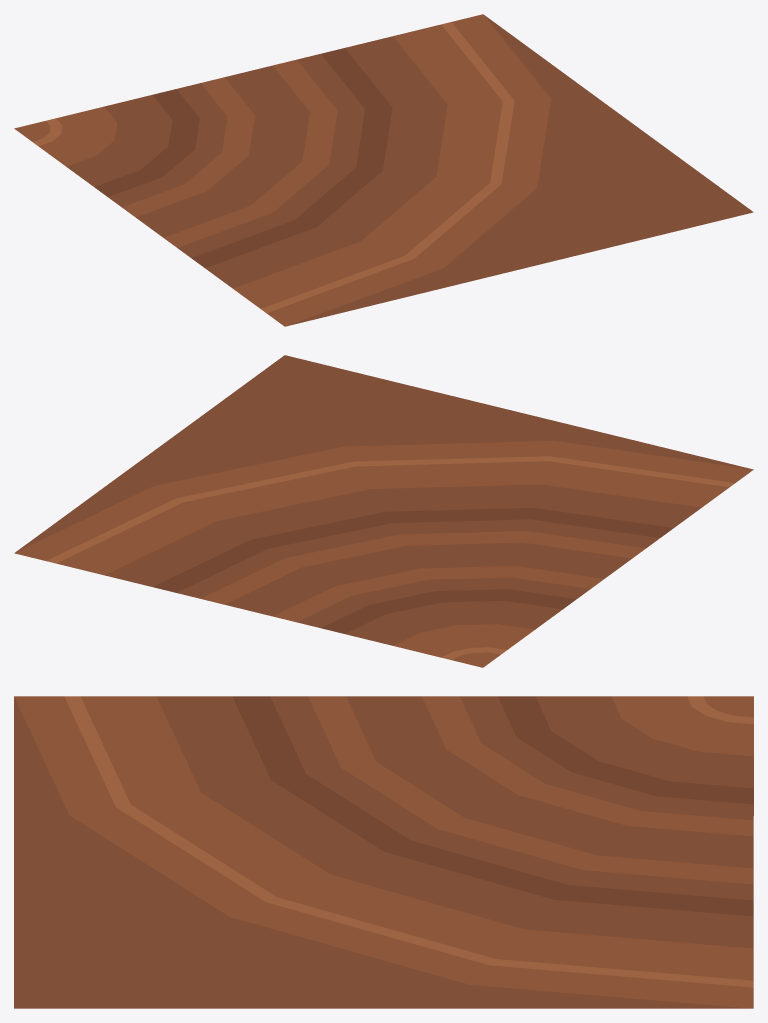
The model's file is SR_Env_Dirt_Track_CornerTight_01.fbx.
3 views of the same model, one above another, from view 1: azimuth 30°, elevation 25°; view 2: azimuth 150°, elevation 25°; view 3: azimuth 270°, elevation 25° (orthographic). The views are drawn at different scales.
Parts seen in each view (by area): view 1: SR_Env_Dirt_Track_CornerTight_01; view 2: SR_Env_Dirt_Track_CornerTight_01; view 3: SR_Env_Dirt_Track_CornerTight_01.
Part boxes in pixels (left/top/right/bottom): SR_Env_Dirt_Track_CornerTight_01: left=14, top=14, right=753, bottom=326; SR_Env_Dirt_Track_CornerTight_01: left=14, top=355, right=753, bottom=667; SR_Env_Dirt_Track_CornerTight_01: left=14, top=696, right=753, bottom=1008.
Size of the model in its own units: 20 by 1.51e-06 by 20.01.
